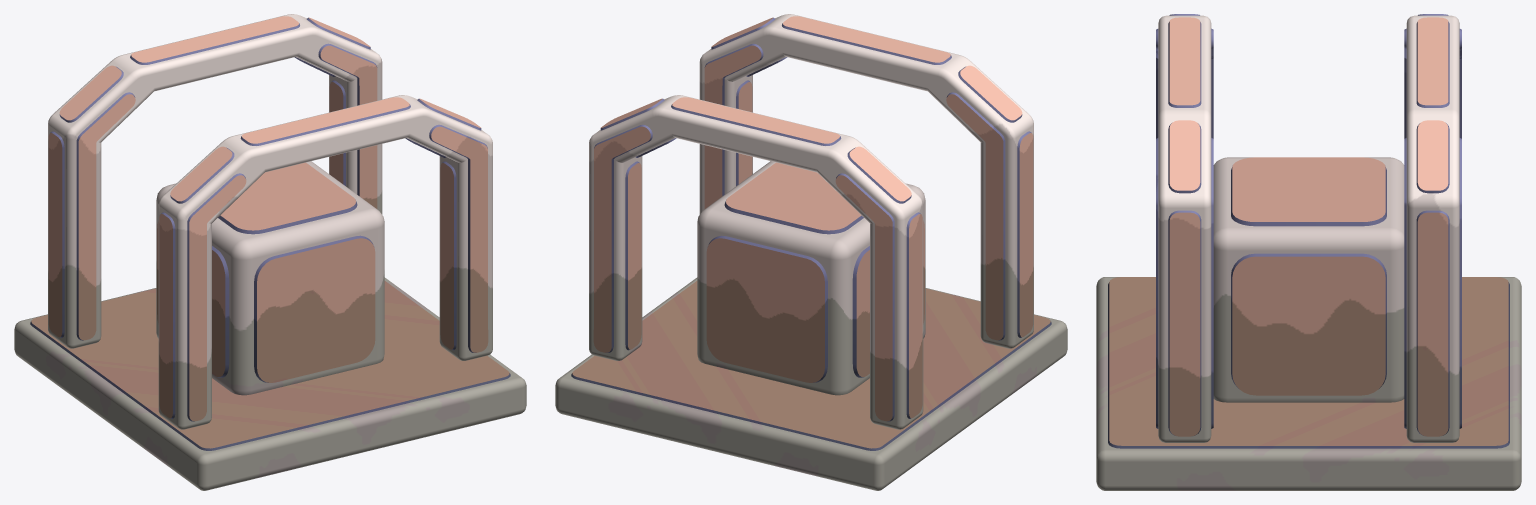
Rendered from R4X_ModuleDurabilityBooster.glb.
3 renders of one model, left to right at view 1: azimuth 30°, elevation 25°; view 2: azimuth 150°, elevation 25°; view 3: azimuth 270°, elevation 25°, orthographic. The views are drawn at different scales.
Parts seen in each view (by area): view 1: R4X_ModuleDurabilityBooster_Body; view 2: R4X_ModuleDurabilityBooster_Body; view 3: R4X_ModuleDurabilityBooster_Body.
Boxes of the visible parts, left/top/right/bottom form: R4X_ModuleDurabilityBooster_Body: left=14, top=14, right=526, bottom=490; R4X_ModuleDurabilityBooster_Body: left=555, top=14, right=1067, bottom=490; R4X_ModuleDurabilityBooster_Body: left=1096, top=14, right=1521, bottom=490.
Size of the model in its own units: 0.514 by 0.46 by 0.514.
Materials: 4 (3 with a texture image).
